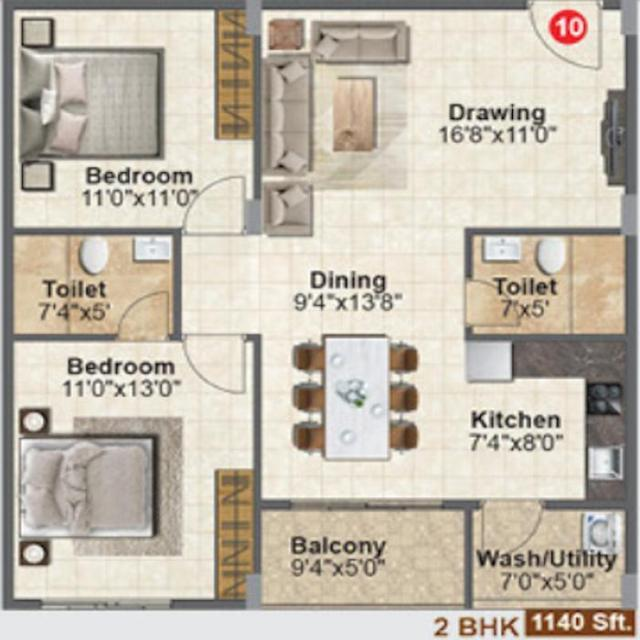Balcony-Sitout: (254, 503, 471, 608)
Bedroom: (4, 339, 255, 613), (4, 1, 257, 235)
Dining: (286, 335, 419, 463)
Kitchen: (465, 344, 636, 510)
Living: (256, 1, 640, 229)
Toilet: (464, 233, 640, 339), (4, 234, 181, 338)
Utility: (473, 506, 637, 608)
